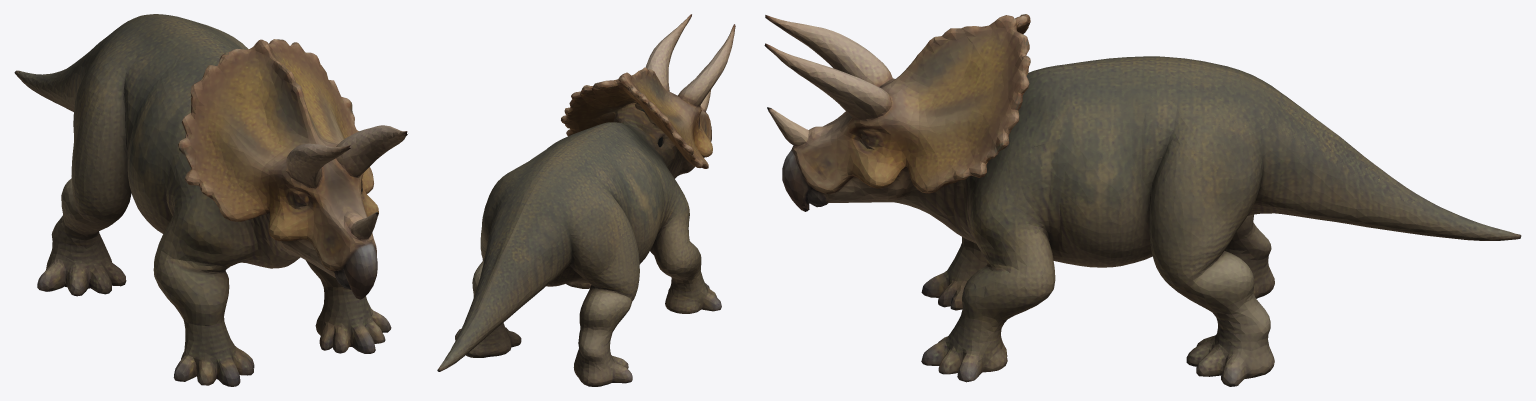
The picture shows the model from 3 angles, left to right: view 1: azimuth 30°, elevation 25°; view 2: azimuth 150°, elevation 25°; view 3: azimuth 270°, elevation 25°; orthographic projection. The views are drawn at different scales.
Visible parts, largest first — view 1: world; view 2: world; view 3: world.
Boxes of the visible parts, left/top/right/bottom form: world: left=14, top=14, right=407, bottom=386; world: left=437, top=14, right=735, bottom=386; world: left=764, top=14, right=1521, bottom=386.
Bounding box in the file's own units: 0.3713 × 0.4609 × 1.
1 material, 1 textured.
